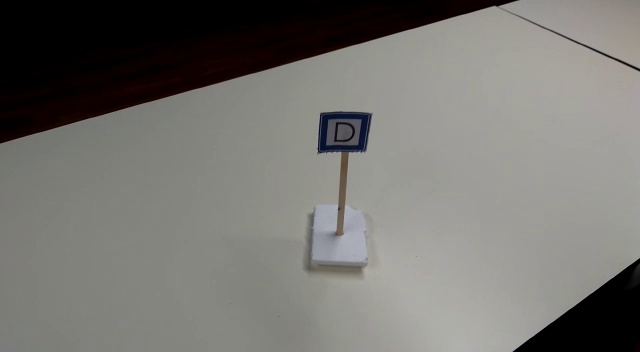durak: (315, 109, 372, 155)
